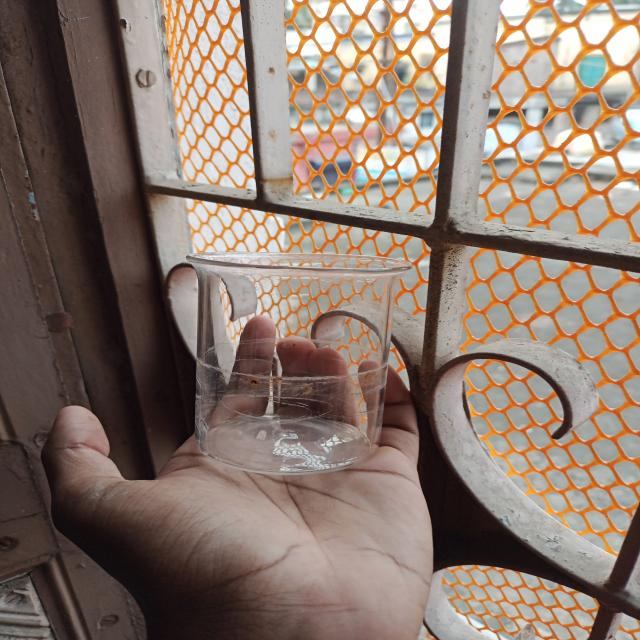Glass: (182, 247, 414, 478)
